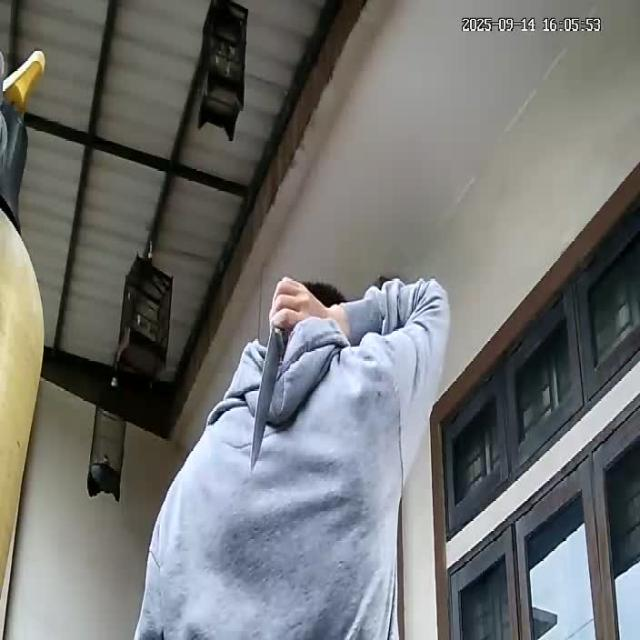senjata_tajam: (247, 327, 285, 471)
